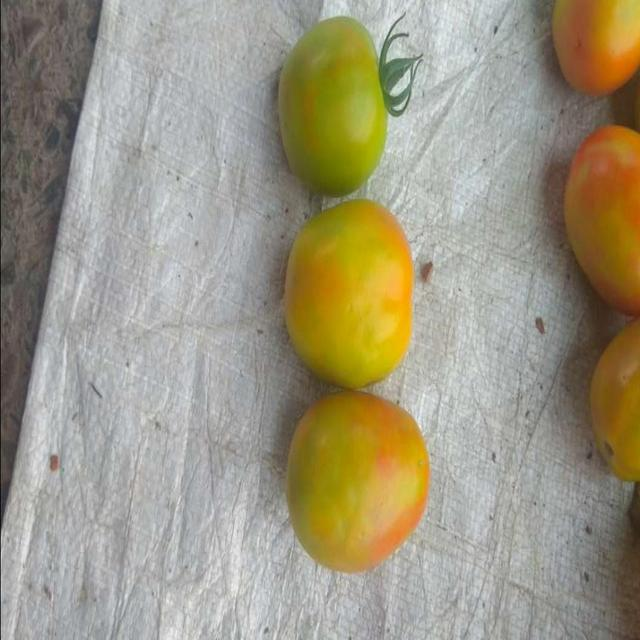Spotted wilt Virus Fruit: (53, 29, 400, 321)
